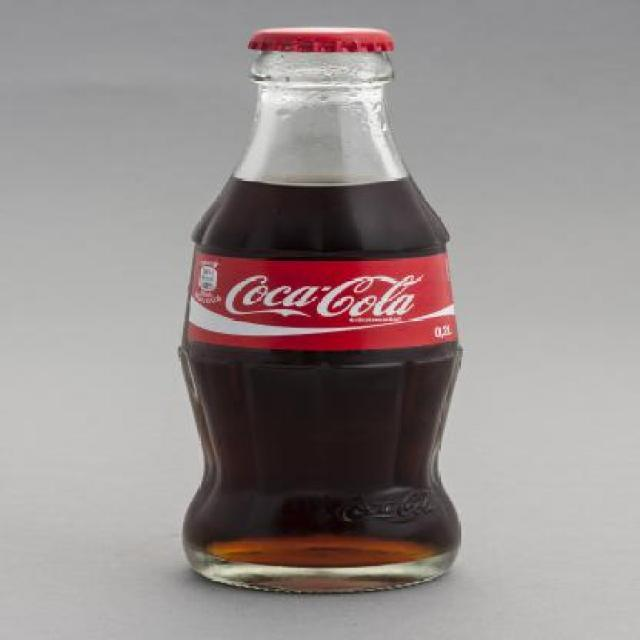Coke: (170, 24, 470, 596)
